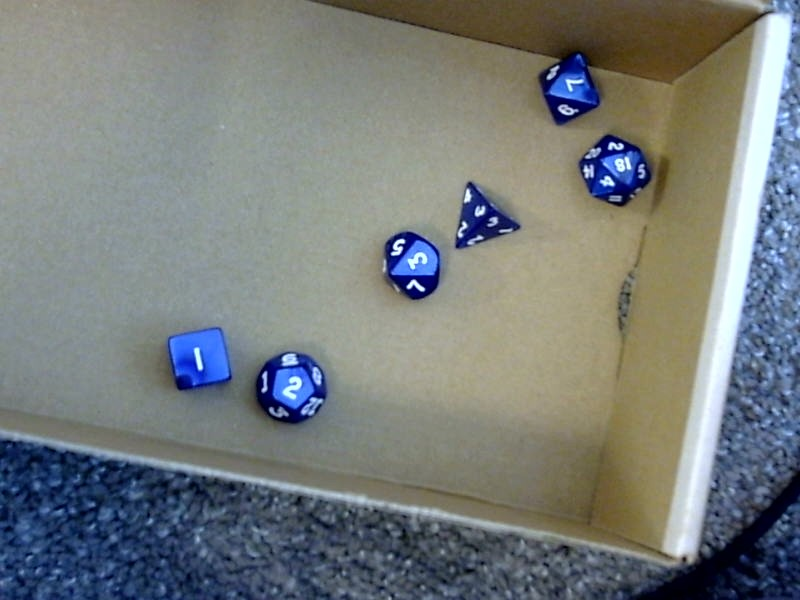d10 3: (377, 226, 444, 305)
d12 2: (252, 344, 327, 427)
d20 18: (572, 128, 655, 214)
d4 3: (456, 174, 521, 257)
d6 1: (159, 324, 236, 395)
d8 7: (535, 45, 603, 125)
